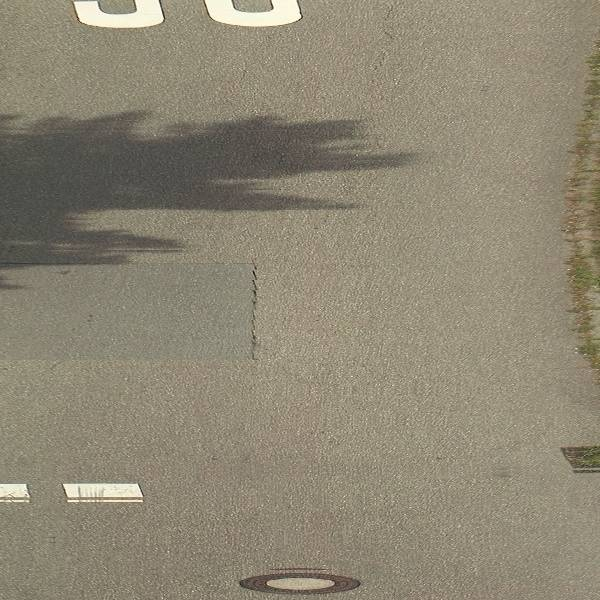road_damage: (36, 242, 291, 379)
